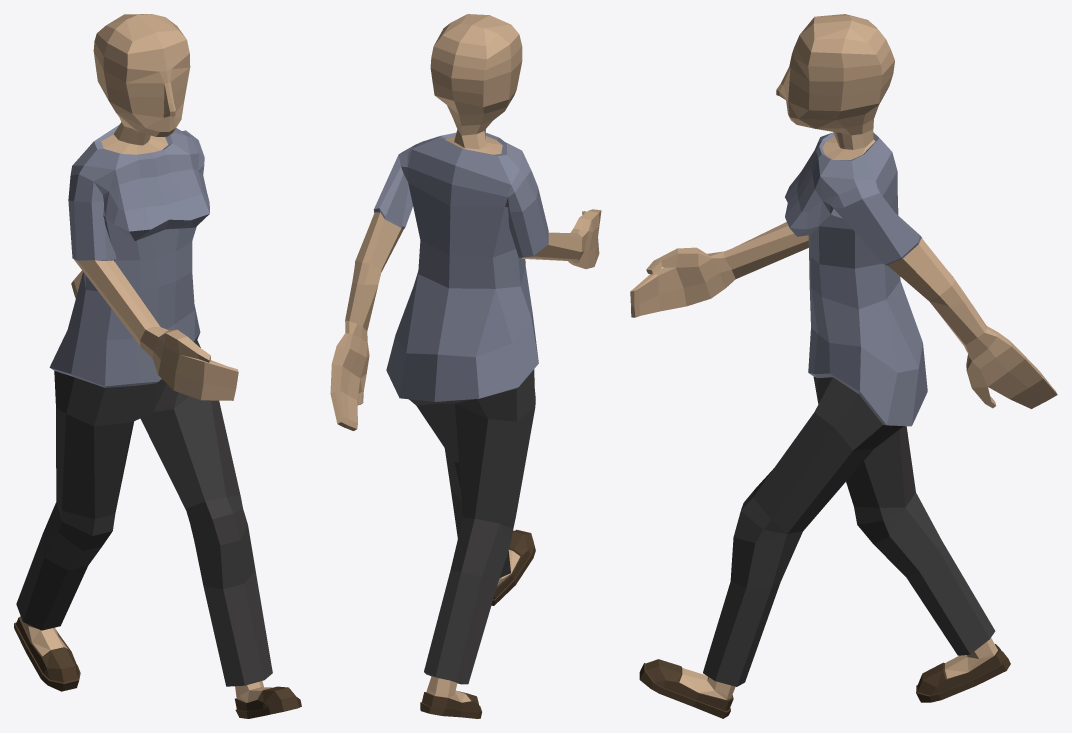
The model's file is Female_Running.glb.
The picture shows the model from 3 angles, left to right: view 1: azimuth 30°, elevation 25°; view 2: azimuth 150°, elevation 25°; view 3: azimuth 270°, elevation 25°; orthographic projection. The views are drawn at different scales.
Visible parts, largest first — view 1: Female_Running; view 2: Female_Running; view 3: Female_Running.
Boxes of the visible parts, left/top/right/bottom form: Female_Running: left=14, top=14, right=301, bottom=718; Female_Running: left=330, top=14, right=601, bottom=718; Female_Running: left=630, top=14, right=1057, bottom=718.
Bounding box in the file's own units: 0.8366 × 3.7 × 2.06.
